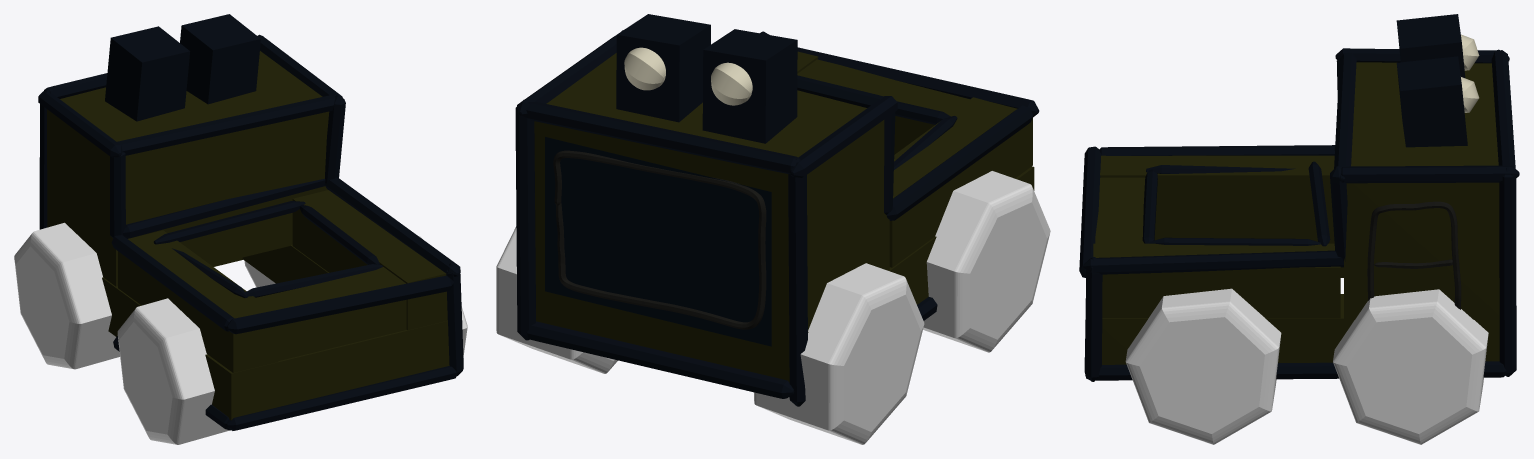
File: Baukipper_anim.fbx
3 renders of one model, left to right at view 1: azimuth 30°, elevation 25°; view 2: azimuth 150°, elevation 25°; view 3: azimuth 270°, elevation 25°, orthographic. The views are drawn at different scales.
Visible parts, largest first — view 1: Paint, Rad (×2); view 2: Paint, Rad (×3); view 3: Paint, Rad (×2).
Part boxes in pixels (x1,y1,x2,y2): Paint: (38, 14, 463, 430); Rad (×2): (14, 222, 229, 444); Paint: (515, 14, 1039, 406); Rad (×3): (496, 171, 1050, 444); Paint: (1079, 14, 1519, 381); Rad (×2): (1125, 288, 1488, 444).
Size of the model in its own units: 2.72 by 2.63 by 3.22.
